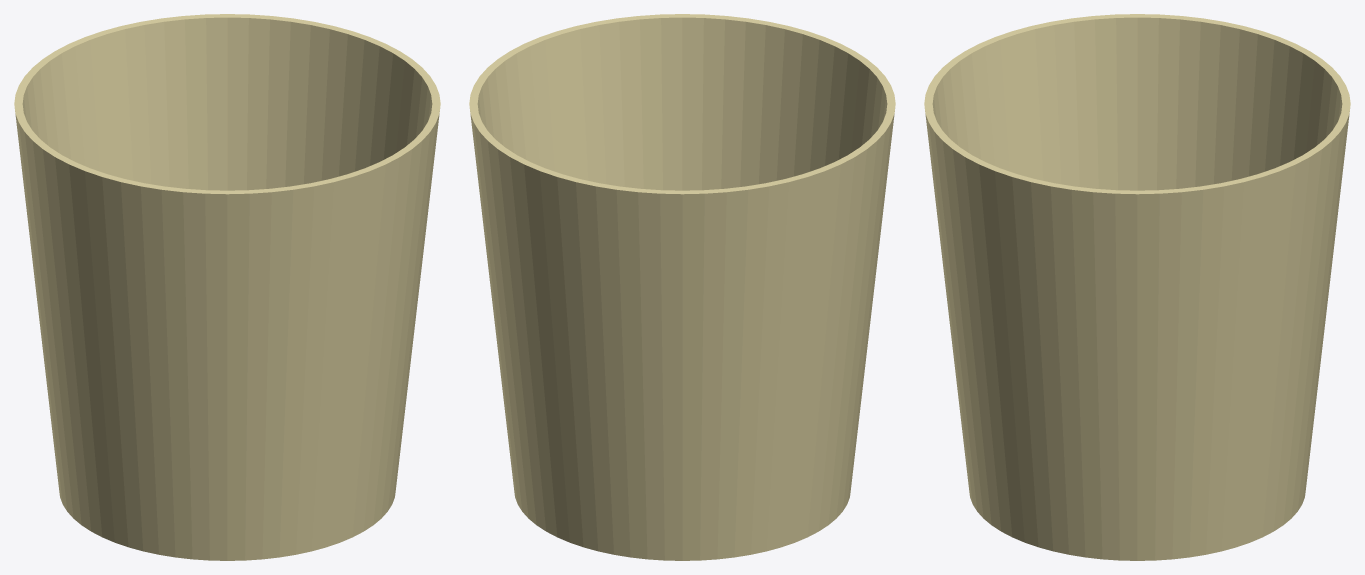
The model's file is bin.glb.
3 views of the same model, side by side, from view 1: azimuth 30°, elevation 25°; view 2: azimuth 150°, elevation 25°; view 3: azimuth 270°, elevation 25° (orthographic).
Visible parts, largest first — view 1: Cylindre; view 2: Cylindre; view 3: Cylindre.
Boxes of the visible parts, left/top/right/bottom form: Cylindre: left=14, top=14, right=440, bottom=560; Cylindre: left=469, top=14, right=895, bottom=560; Cylindre: left=924, top=14, right=1350, bottom=560.
Bounding box in the file's own units: 2 × 2 × 2.
